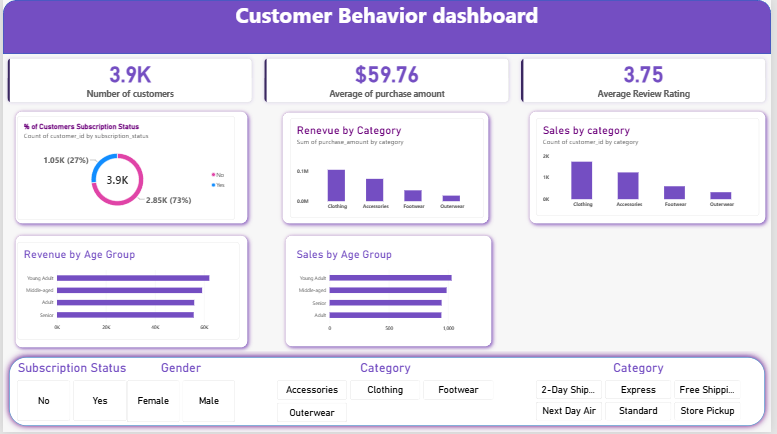

Layout of this report page (visuals, bound fields, positions):
{"tool":"powerbi","page":{"name":"Page 1","canvas":[1920,1080],"ordinal":0},"visuals":[{"type":"cardVisual","fields":{"Data":["public customer.Number of customers","public customer.Average of purchase amount","public customer.Average Review Rating"]},"box":[0,135,1920,132.5],"z":0},{"type":"shape","box":[0,0,1920,135],"z":1000},{"type":"textbox","box":[0,0,1920,97],"z":2000},{"type":"shape","box":[17.5,265,607.5,307.5],"z":3000},{"type":"donutChart","title":"% of Customers Subscription Status","fields":{"Category":["public customer.subscription_status"],"Y":["CountNonNull(public customer.customer_id)"]},"box":[35,290,545,260],"z":4000},{"type":"shape","box":[685,267.5,542.5,305],"z":5000},{"type":"shape","box":[1302.5,265,617.5,307.5],"z":6000},{"type":"clusteredColumnChart","title":"Renevue by Category","fields":{"Category":["public customer.category"],"Y":["Sum(public customer.purchase_amount)"]},"box":[717.5,295,485,250],"z":7000},{"type":"clusteredColumnChart","title":"Sales by category","fields":{"Category":["public customer.category"],"Y":["CountNonNull(public customer.customer_id)"]},"box":[1332.5,295,557.5,245],"z":8000},{"type":"shape","box":[0,877.5,1920,202.5],"z":9000},{"type":"advancedSlicerVisual","title":"Subscription Status","fields":{"Values":["public customer.subscription_status"]},"box":[35,900,275,152.5],"z":10000},{"type":"advancedSlicerVisual","title":"Gender","fields":{"Values":["public customer.gender"]},"box":[310,900,270,155],"z":11000},{"type":"advancedSlicerVisual","title":"Category","fields":{"Values":["public customer.category"]},"box":[685,900,542.5,155],"z":12000},{"type":"advancedSlicerVisual","title":"Category","fields":{"Values":["public customer.shipping_type"]},"box":[1332.5,900,512.5,152.5],"z":13000},{"type":"shape","box":[18,574,607.5,307.5],"z":14000},{"type":"clusteredBarChart","title":"Revenue by Age Group","fields":{"Category":["public customer.age_group"],"Y":["Sum(public customer.purchase_amount)"]},"box":[36,606,556,244],"z":15000},{"type":"shape","box":[692,574,542.5,305],"z":16000},{"type":"clusteredBarChart","title":"Sales by Age Group","fields":{"Category":["public customer.age_group"],"Y":["CountNonNull(public customer.customer_id)"]},"box":[718,606,486,244],"z":17000}]}

Visuals, with their boxes in screenshot pixels (x1, y1, x2, y2), scaled from the page's 1920x1080 canvas onto the 777x434 screenshot:
cardVisual - public customer.Number of customers x public customer.Average of purchase amount: region(0, 54, 776, 107)
shape: region(0, 0, 776, 54)
textbox: region(0, 0, 776, 39)
shape: region(7, 106, 253, 230)
"% of Customers Subscription Status" donutChart: region(14, 117, 235, 221)
shape: region(277, 107, 497, 230)
shape: region(527, 106, 776, 230)
"Renevue by Category" clusteredColumnChart: region(290, 119, 487, 219)
"Sales by category" clusteredColumnChart: region(539, 119, 765, 217)
shape: region(0, 353, 776, 433)
"Subscription Status" advancedSlicerVisual: region(14, 362, 125, 423)
"Gender" advancedSlicerVisual: region(125, 362, 235, 424)
"Category" advancedSlicerVisual: region(277, 362, 497, 424)
"Category" advancedSlicerVisual: region(539, 362, 747, 423)
shape: region(7, 231, 253, 354)
"Revenue by Age Group" clusteredBarChart: region(15, 244, 240, 342)
shape: region(280, 231, 500, 353)
"Sales by Age Group" clusteredBarChart: region(291, 244, 487, 342)
